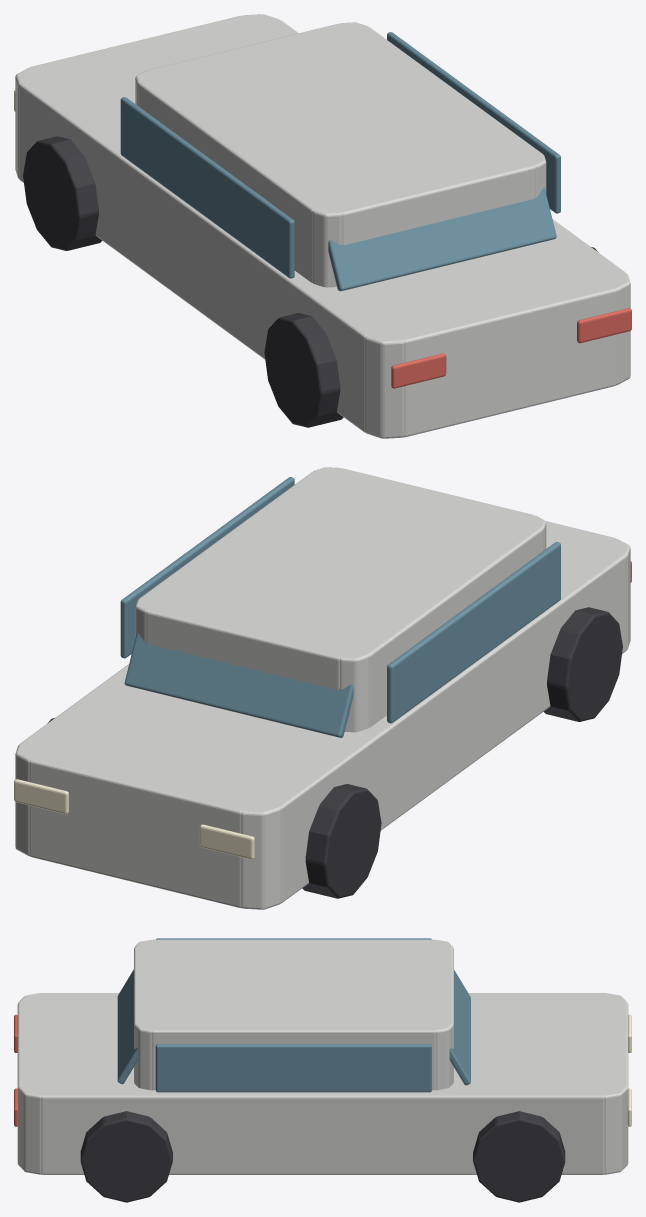
File: CarWhite.fbx
The picture shows the model from 3 angles, top to bottom: view 1: azimuth 30°, elevation 25°; view 2: azimuth 150°, elevation 25°; view 3: azimuth 270°, elevation 25°; orthographic projection. The views are drawn at different scales.
Visible parts, largest first — view 1: CarWhite; view 2: CarWhite; view 3: CarWhite.
Part boxes in pixels (left/top/right/bottom): CarWhite: left=14, top=14, right=631, bottom=438; CarWhite: left=14, top=467, right=631, bottom=909; CarWhite: left=14, top=938, right=631, bottom=1202.
Bounding box in the file's own units: 196 × 120 × 425.
